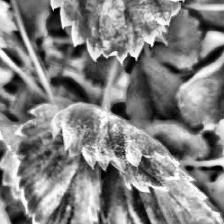Powdery Mildew Leaf: (49, 102, 181, 194)
